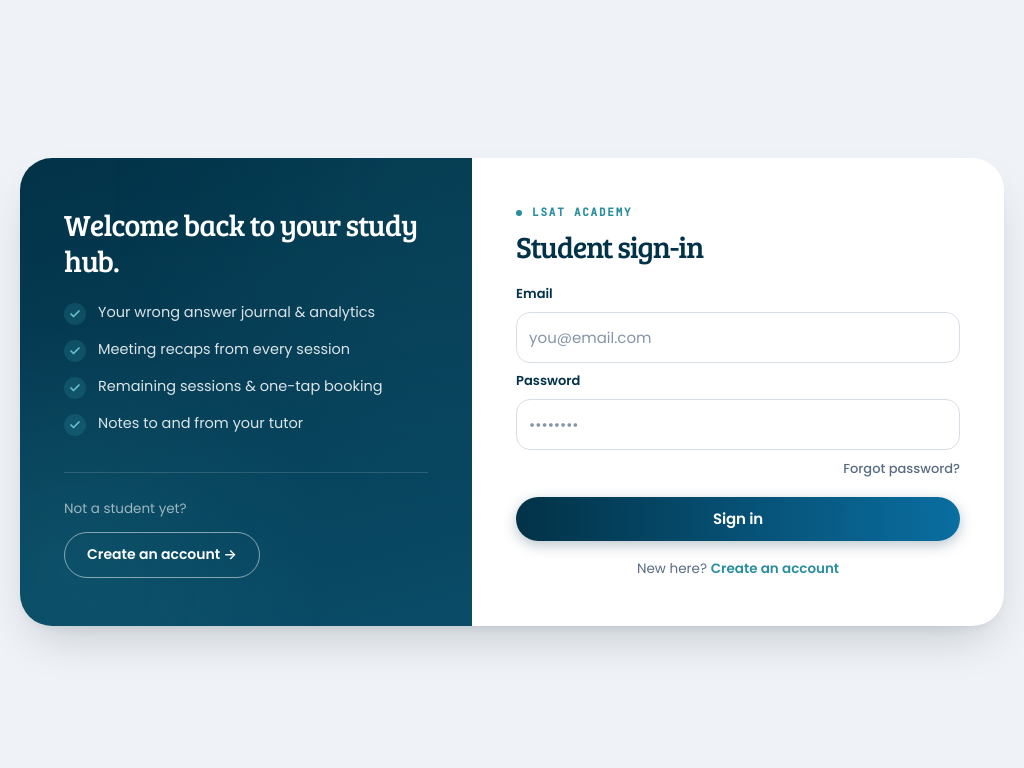
it: Login form › surfaces the raw error message for other failures
The width and height of the screenshot is (1024, 768).
In the field labelled "Email": (738, 338) [516,312,960,363], type "me@test.com"
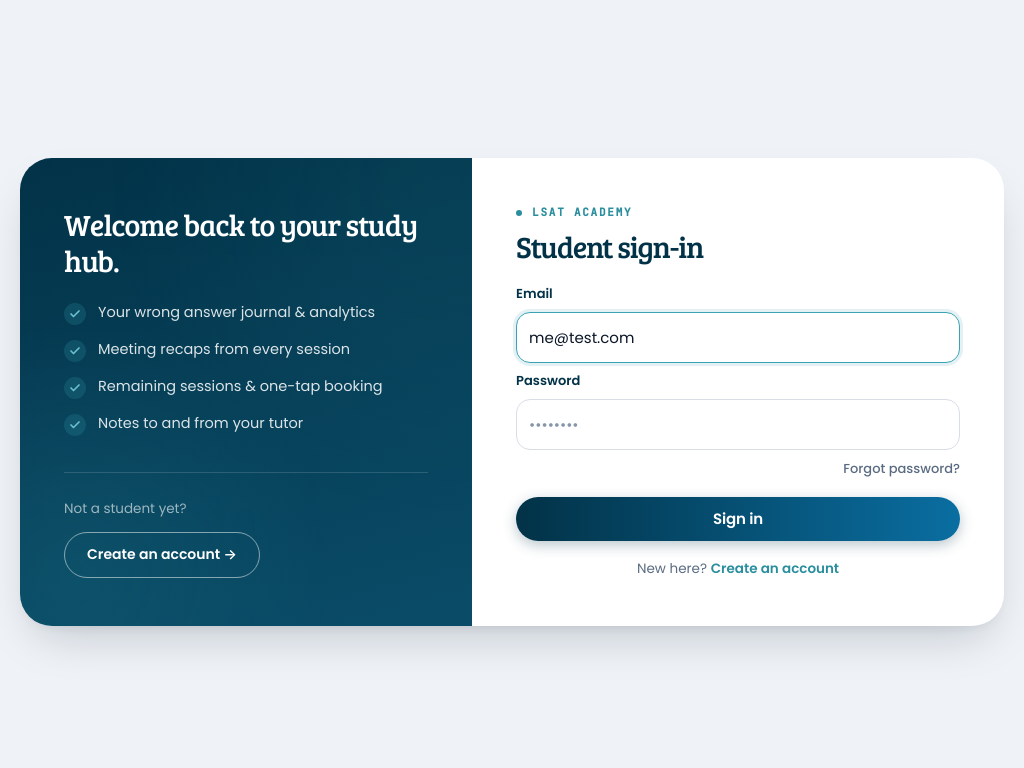
In the password field labelled "Password": (738, 425) [516,399,960,450], type "pw"
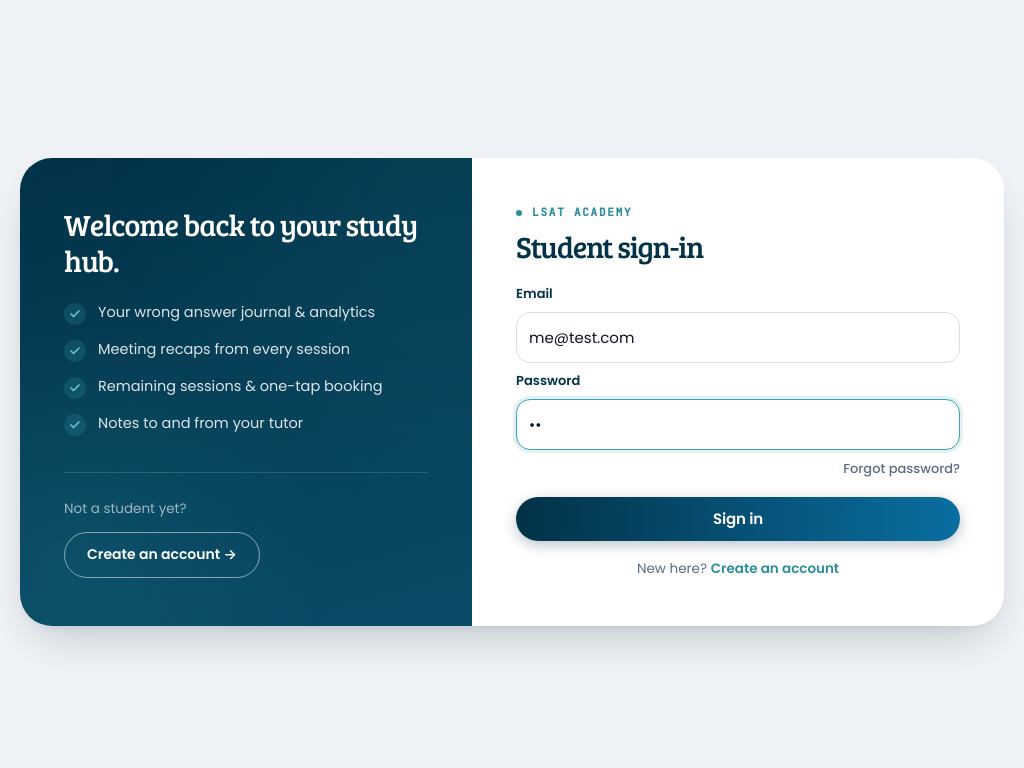
Click the button "Sign in": (738, 519) [516,497,960,541]
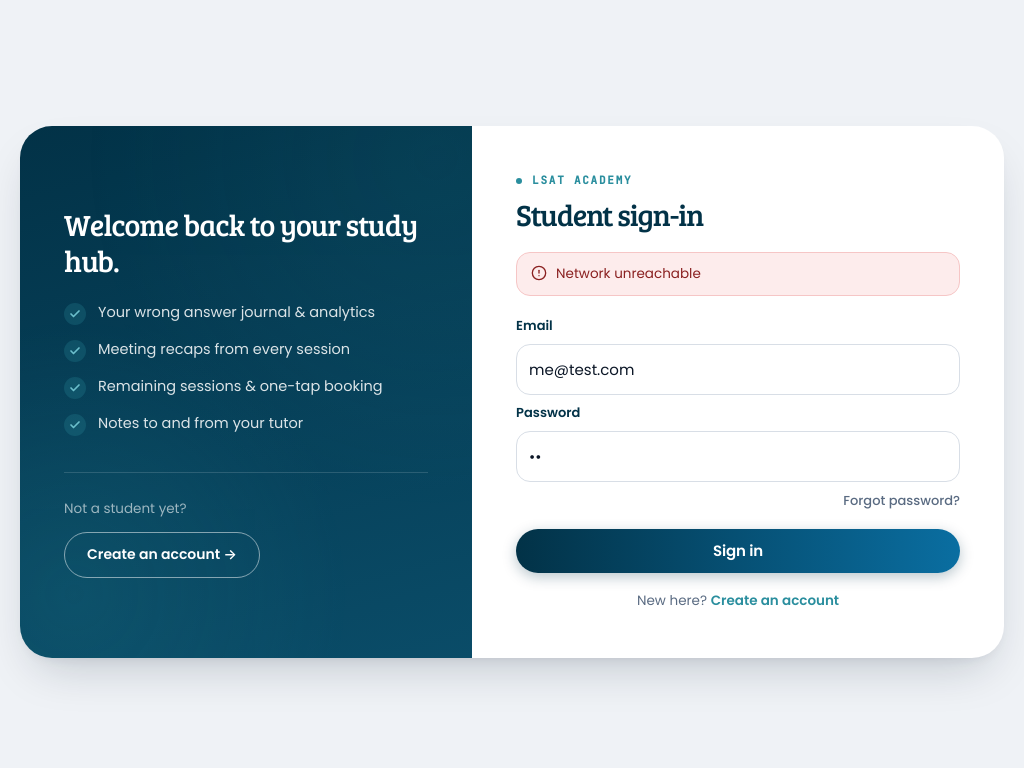
Result: the text "Network unreachable" is shown at [556,264,701,284]
